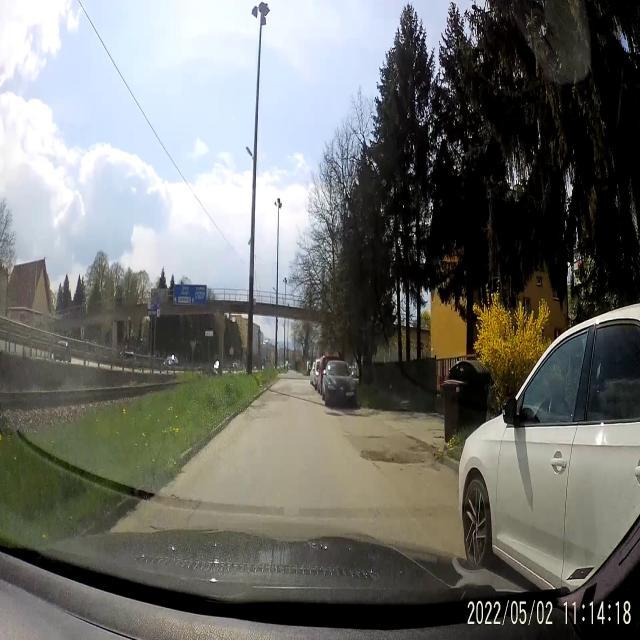Pothole: (358, 441, 411, 474), (246, 403, 271, 423), (365, 433, 387, 440), (428, 427, 444, 435), (342, 429, 352, 439)
